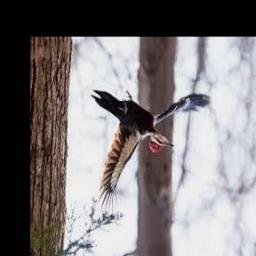Woodpecker: (92, 91, 211, 213)
